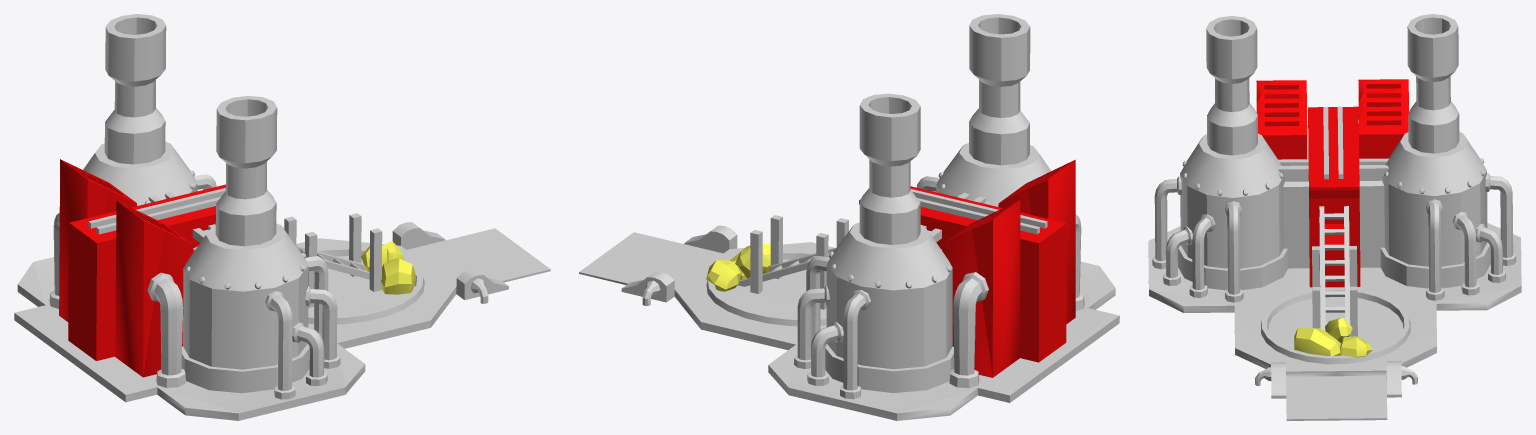
Rendered from 苏联矿场.fbx.
3 renders of one model, left to right at view 1: azimuth 30°, elevation 25°; view 2: azimuth 150°, elevation 25°; view 3: azimuth 270°, elevation 25°, orthographic. The views are drawn at different scales.
Parts seen in each view (by area): view 1: Obj3d66_12541512_4_248, Obj3d66_12541512_3_211, Obj3d66_12541512_2_788; view 2: Obj3d66_12541512_4_248, Obj3d66_12541512_3_211, Obj3d66_12541512_2_788; view 3: Obj3d66_12541512_4_248, Obj3d66_12541512_3_211, Obj3d66_12541512_2_788.
Boxes of the visible parts, box(x1,y1,x2,y2) form: Obj3d66_12541512_4_248: box(14, 14, 550, 420); Obj3d66_12541512_3_211: box(59, 159, 225, 377); Obj3d66_12541512_2_788: box(361, 241, 416, 294); Obj3d66_12541512_4_248: box(579, 14, 1119, 420); Obj3d66_12541512_3_211: box(859, 159, 1075, 377); Obj3d66_12541512_2_788: box(706, 243, 783, 291); Obj3d66_12541512_4_248: box(1148, 14, 1521, 420); Obj3d66_12541512_3_211: box(1256, 79, 1408, 287); Obj3d66_12541512_2_788: box(1294, 318, 1372, 357).
Size of the model in its own units: 369 by 208 by 286.
